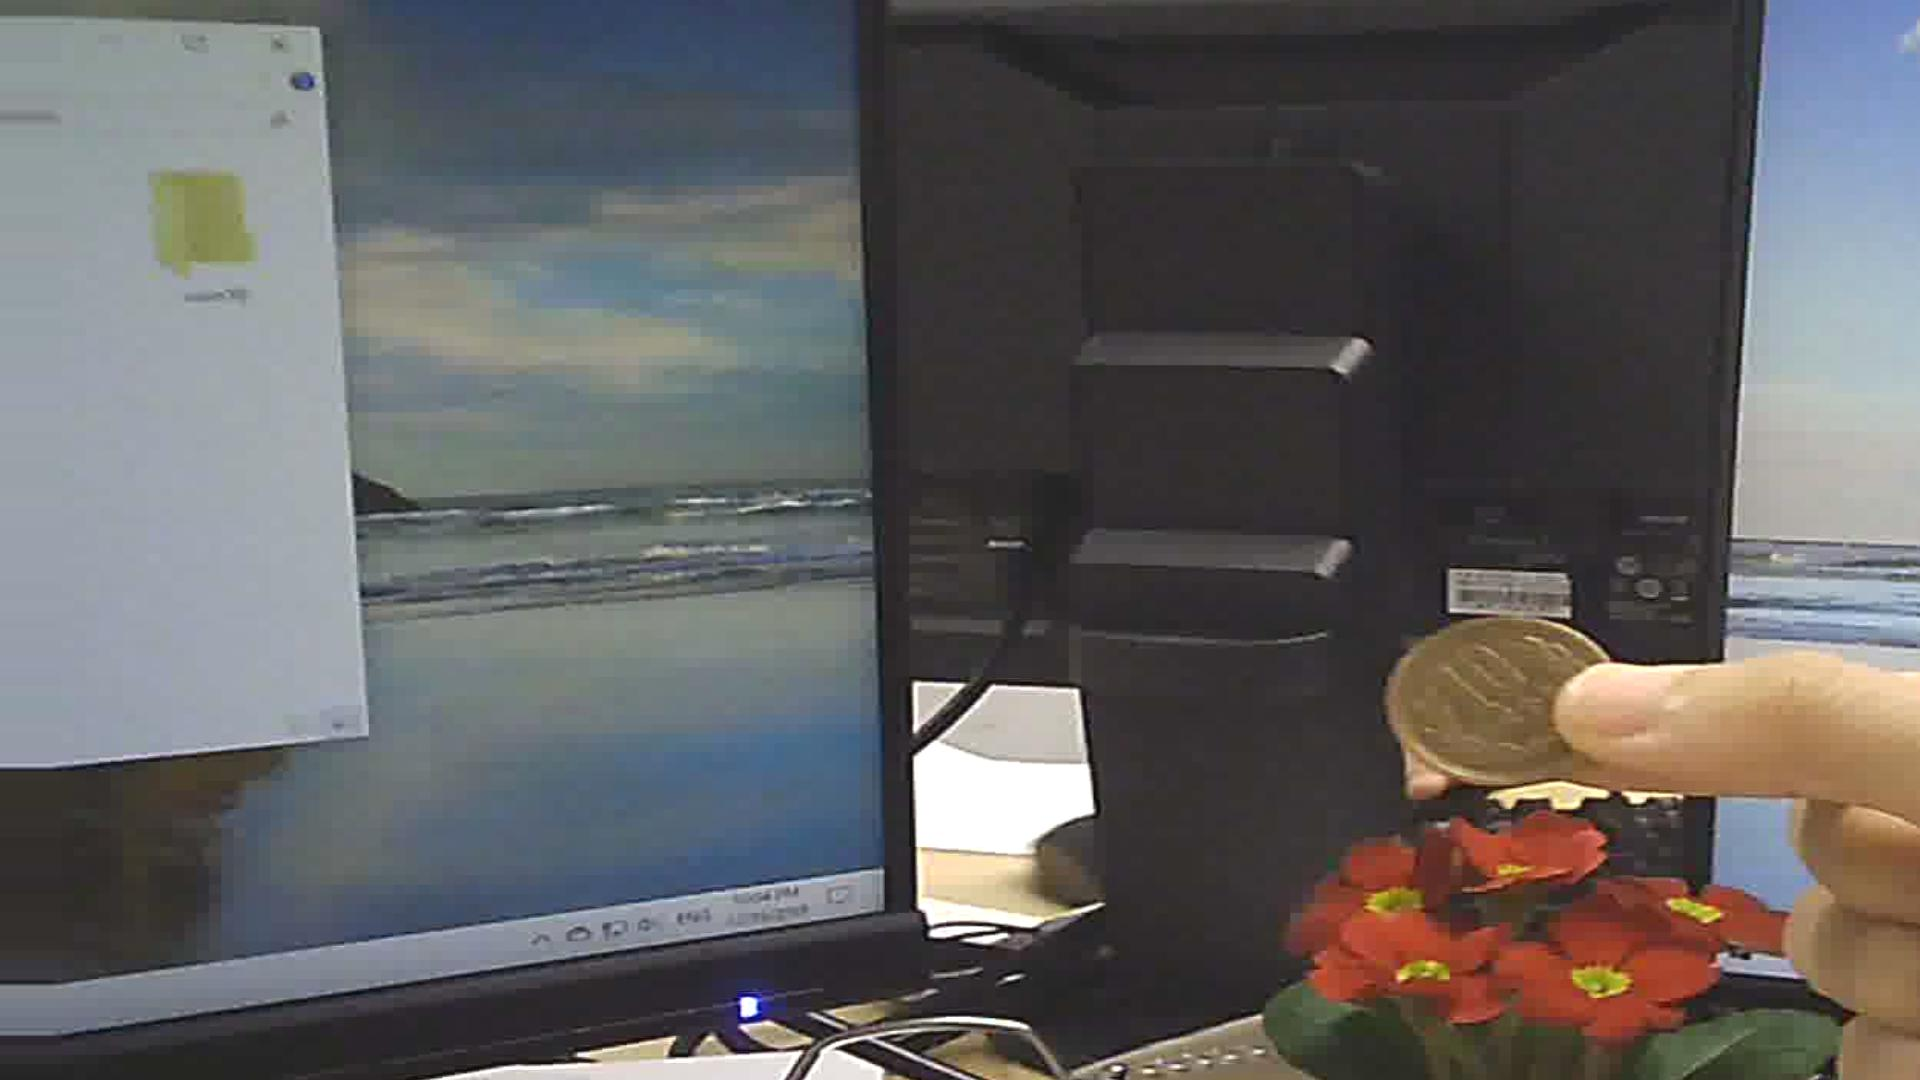10 Yen: (1390, 605, 1619, 787)
